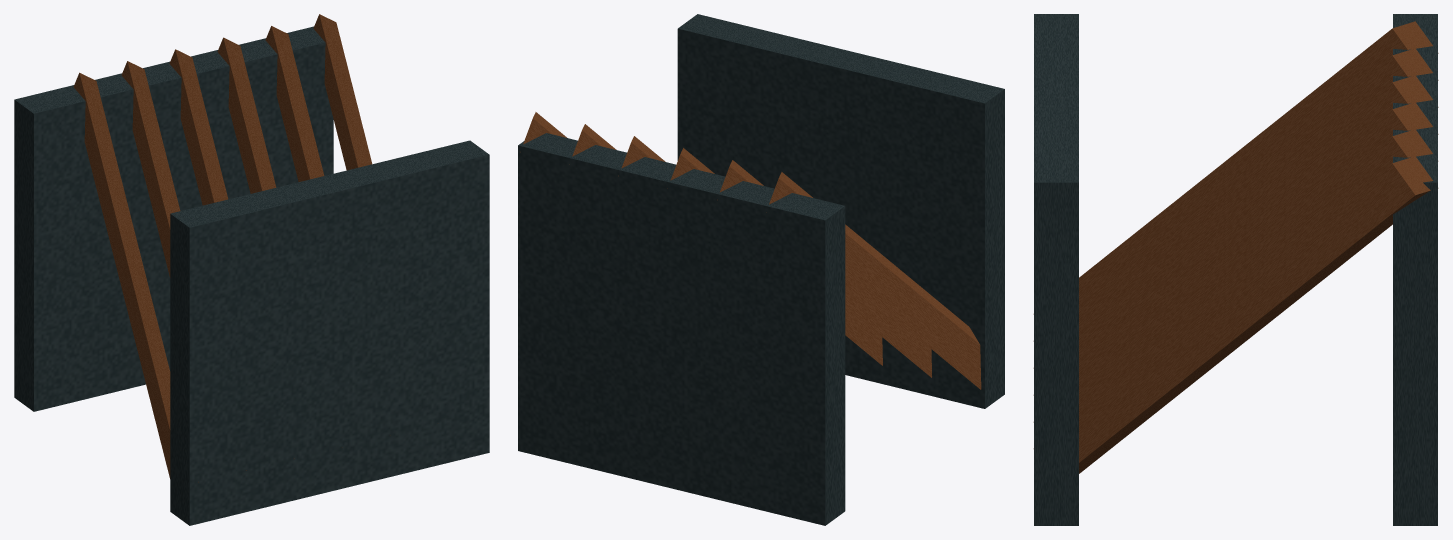
The model's file is debris_beam_01.fbx.
3 views of the same model, side by side, from view 1: azimuth 30°, elevation 25°; view 2: azimuth 150°, elevation 25°; view 3: azimuth 270°, elevation 25° (orthographic). The views are drawn at different scales.
Parts seen in each view (by area): view 1: debris_beam_01_LOD0; view 2: debris_beam_01_LOD0; view 3: debris_beam_01_LOD0.
Part boxes in pixels (x1,y1,x2,y2): debris_beam_01_LOD0: (14, 14, 489, 525); debris_beam_01_LOD0: (518, 14, 1004, 525); debris_beam_01_LOD0: (1033, 14, 1438, 525).
Size of what is drawn, in the model's own units: 1 by 1 by 1.
